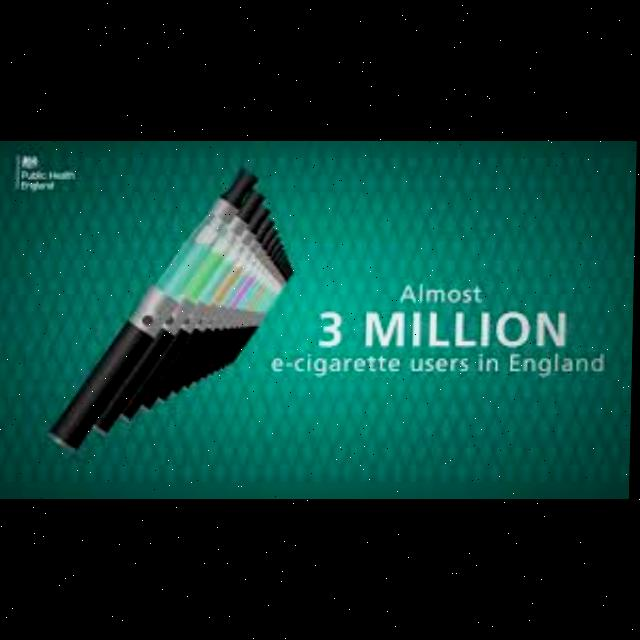vape: (49, 166, 260, 452), (96, 190, 266, 435), (123, 205, 274, 425)
